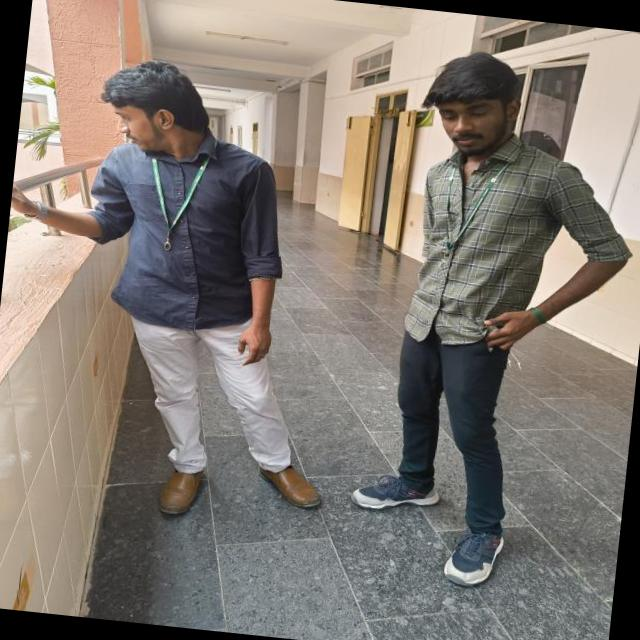id_card: (436, 131, 503, 273), (140, 136, 203, 264)
